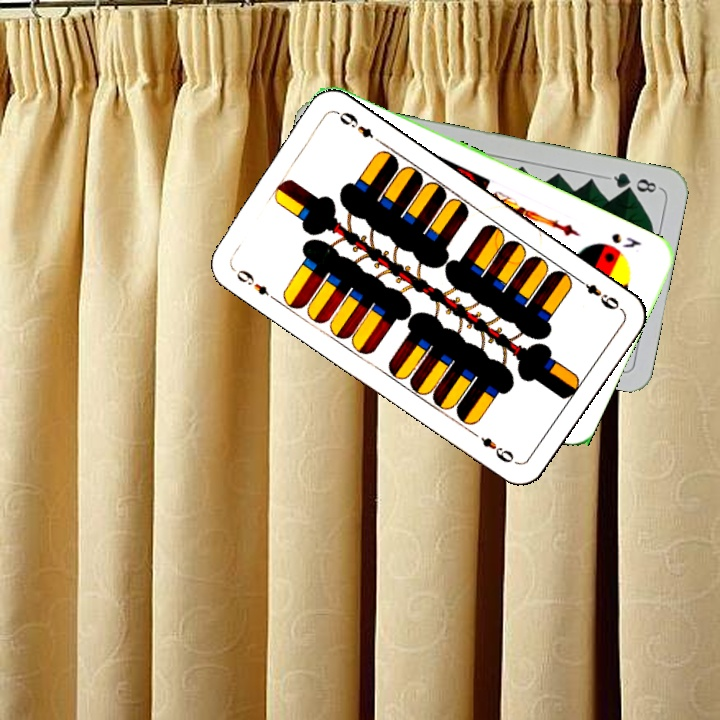E9: (227, 262, 278, 303), (572, 273, 624, 313)
G8: (604, 168, 662, 195)
SK: (607, 229, 645, 251)
